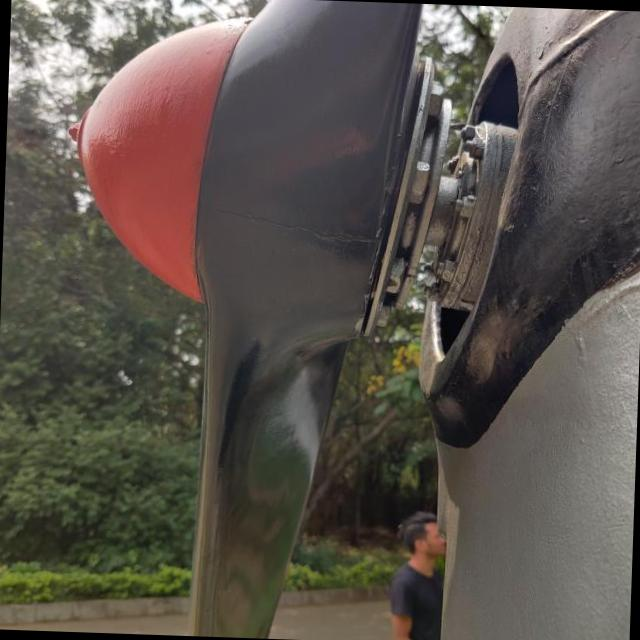Crack: (218, 208, 381, 256)
